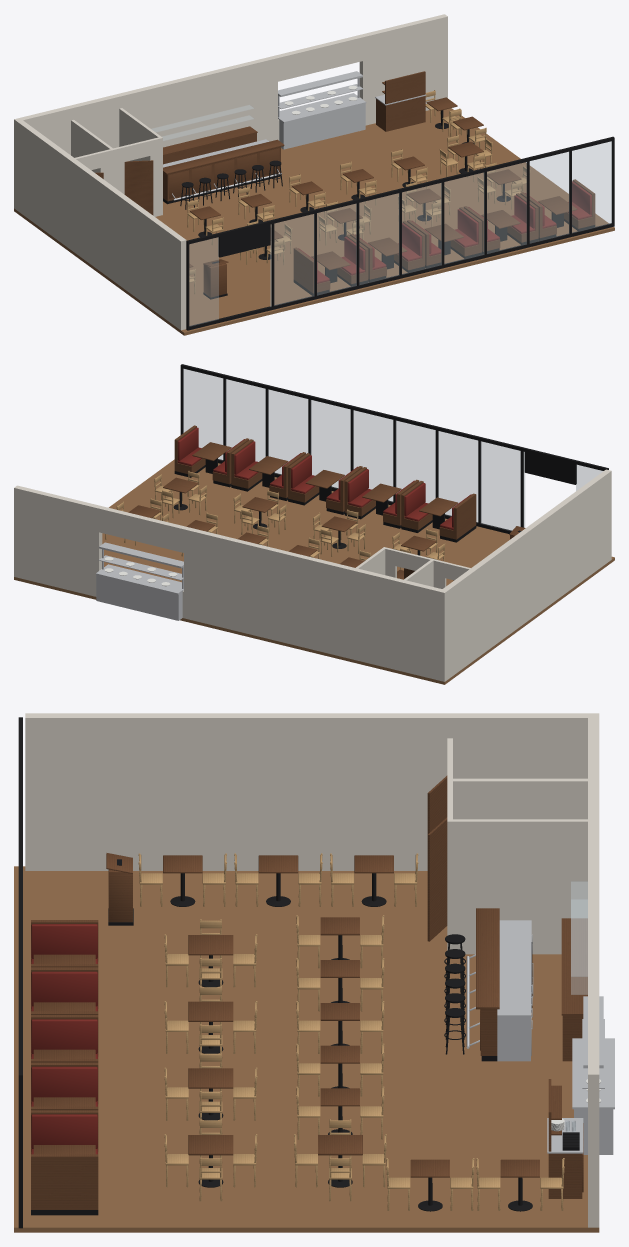
Rendered from casual-dining-restaurant-interior-60-covers.glb.
The picture shows the model from 3 angles, top to bottom: view 1: azimuth 30°, elevation 25°; view 2: azimuth 150°, elevation 25°; view 3: azimuth 270°, elevation 25°; orthographic projection. The views are drawn at different scales.
Parts seen in each view (by area): view 1: Room shell: floor, walls, glazed front with entrance - Walls, Room shell: floor, walls, glazed front with entrance - Floor, Room shell: floor, walls, glazed front with entrance - Glazi, Room shell: floor, walls, glazed front with entrance - Black, Booths along the front glazing (5 doubles) - Walnut tables a, Kitchen pass with heat lamps - Stainless steel, Restrooms block - Walls, warm white plaster, Booths along the front glazing (5 doubles) - Booth upholster, Bar counter (customer side to the room) - Walnut veneer / so, Four-top tables with chairs - Oak chairs, Two-top tables with chairs - Oak chairs, Service station - Walnut tables and joinery (+10 smaller); view 2: Room shell: floor, walls, glazed front with entrance - Walls, Room shell: floor, walls, glazed front with entrance - Glazi, Room shell: floor, walls, glazed front with entrance - Floor, Booths along the front glazing (5 doubles) - Walnut tables a, Room shell: floor, walls, glazed front with entrance - Black, Kitchen pass with heat lamps - Stainless steel, Booths along the front glazing (5 doubles) - Booth upholster, Four-top tables with chairs - Oak chairs, Restrooms block - Walls, warm white plaster, Booths along the front glazing (5 doubles) - Black powder-co, Four-top tables with chairs - Walnut tables and joinery, Two-top tables with chairs - Walnut tables and joinery (+1 smaller); view 3: Room shell: floor, walls, glazed front with entrance - Floor, Room shell: floor, walls, glazed front with entrance - Walls, Restrooms block - Walls, warm white plaster, Booths along the front glazing (5 doubles) - Booth upholster, Booths along the front glazing (5 doubles) - Walnut tables a, Two-top tables with chairs - Oak chairs, Four-top tables with chairs - Oak chairs, Two-top tables with chairs - Walnut tables and joinery, Four-top tables with chairs - Walnut tables and joinery, Bar counter (customer side to the room) - Stainless steel, b, Kitchen pass with heat lamps - Stainless steel, Back bar - Walnut tables and joinery (+10 smaller).
Boxes of the visible parts, x1,y1,x2,y2 form: Room shell: floor, walls, glazed front with entrance - Walls: [14, 14, 447, 330]; Room shell: floor, walls, glazed front with entrance - Floor: [14, 108, 614, 335]; Room shell: floor, walls, glazed front with entrance - Glazi: [189, 141, 611, 326]; Room shell: floor, walls, glazed front with entrance - Black: [186, 136, 614, 330]; Booths along the front glazing (5 doubles) - Walnut tables a: [293, 179, 595, 293]; Kitchen pass with heat lamps - Stainless steel: [278, 71, 366, 149]; Restrooms block - Walls, warm white plaster: [71, 108, 162, 216]; Booths along the front glazing (5 doubles) - Booth upholster: [298, 181, 591, 283]; Bar counter (customer side to the room) - Walnut veneer / so: [163, 139, 284, 201]; Four-top tables with chairs - Oak chairs: [240, 135, 530, 264]; Two-top tables with chairs - Oak chairs: [187, 90, 486, 293]; Service station - Walnut tables and joinery: [376, 71, 425, 131]; Room shell: floor, walls, glazed front with entrance - Walls: [14, 469, 611, 681]; Room shell: floor, walls, glazed front with entrance - Glazi: [183, 369, 602, 530]; Room shell: floor, walls, glazed front with entrance - Floor: [14, 459, 614, 684]; Booths along the front glazing (5 doubles) - Walnut tables a: [174, 425, 476, 539]; Room shell: floor, walls, glazed front with entrance - Black: [180, 364, 608, 533]; Kitchen pass with heat lamps - Stainless steel: [96, 542, 183, 620]; Booths along the front glazing (5 doubles) - Booth upholster: [177, 427, 471, 530]; Four-top tables with chairs - Oak chairs: [116, 471, 445, 569]; Restrooms block - Walls, warm white plaster: [356, 547, 470, 588]; Booths along the front glazing (5 doubles) - Black powder-co: [174, 458, 476, 542]; Four-top tables with chairs - Walnut tables and joinery: [128, 477, 436, 551]; Two-top tables with chairs - Walnut tables and joinery: [186, 520, 403, 579]; Room shell: floor, walls, glazed front with entrance - Floor: [14, 866, 599, 1232]; Room shell: floor, walls, glazed front with entrance - Walls: [25, 713, 599, 1227]; Restrooms block - Walls, warm white plaster: [447, 738, 587, 954]; Booths along the front glazing (5 doubles) - Booth upholster: [31, 924, 97, 1154]; Booths along the front glazing (5 doubles) - Walnut tables a: [31, 920, 98, 1209]; Two-top tables with chairs - Oak chairs: [138, 853, 564, 1210]; Four-top tables with chairs - Oak chairs: [164, 919, 386, 1201]; Two-top tables with chairs - Walnut tables and joinery: [163, 855, 539, 1177]; Four-top tables with chairs - Walnut tables and joinery: [188, 935, 362, 1155]; Bar counter (customer side to the room) - Stainless steel, b: [497, 920, 531, 1061]; Kitchen pass with heat lamps - Stainless steel: [572, 996, 614, 1154]; Back bar - Walnut tables and joinery: [561, 918, 587, 1061].
Size of the model in its own units: 15.23 by 3.1 by 10.68.
Materials: 17 (17 with a texture image).
